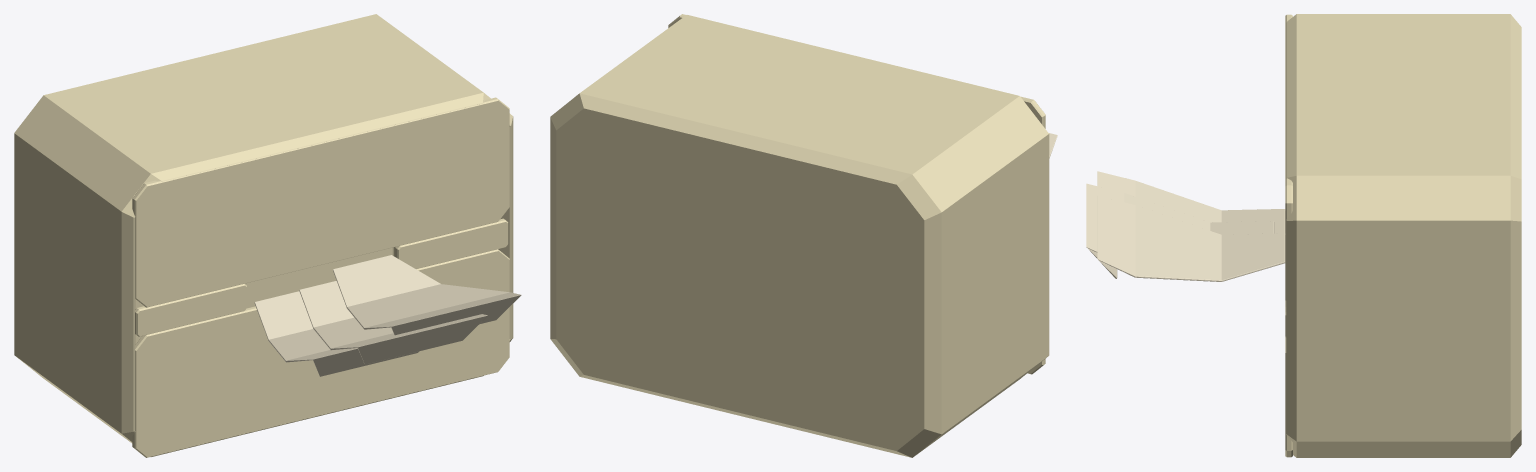
The model's file is tissues.glb.
3 views of the same model, side by side, from view 1: azimuth 30°, elevation 25°; view 2: azimuth 150°, elevation 25°; view 3: azimuth 270°, elevation 25° (orthographic).
Parts seen in each view (by area): view 1: tissues; view 2: tissues; view 3: tissues.
Part boxes in pixels (x1=…): tissues: x1=14, y1=14, x2=521, y2=457; tissues: x1=550, y1=14, x2=1057, y2=457; tissues: x1=1086, y1=14, x2=1521, y2=457.
Size of the model in its own units: 0.12 by 0.0854 by 0.1161.
